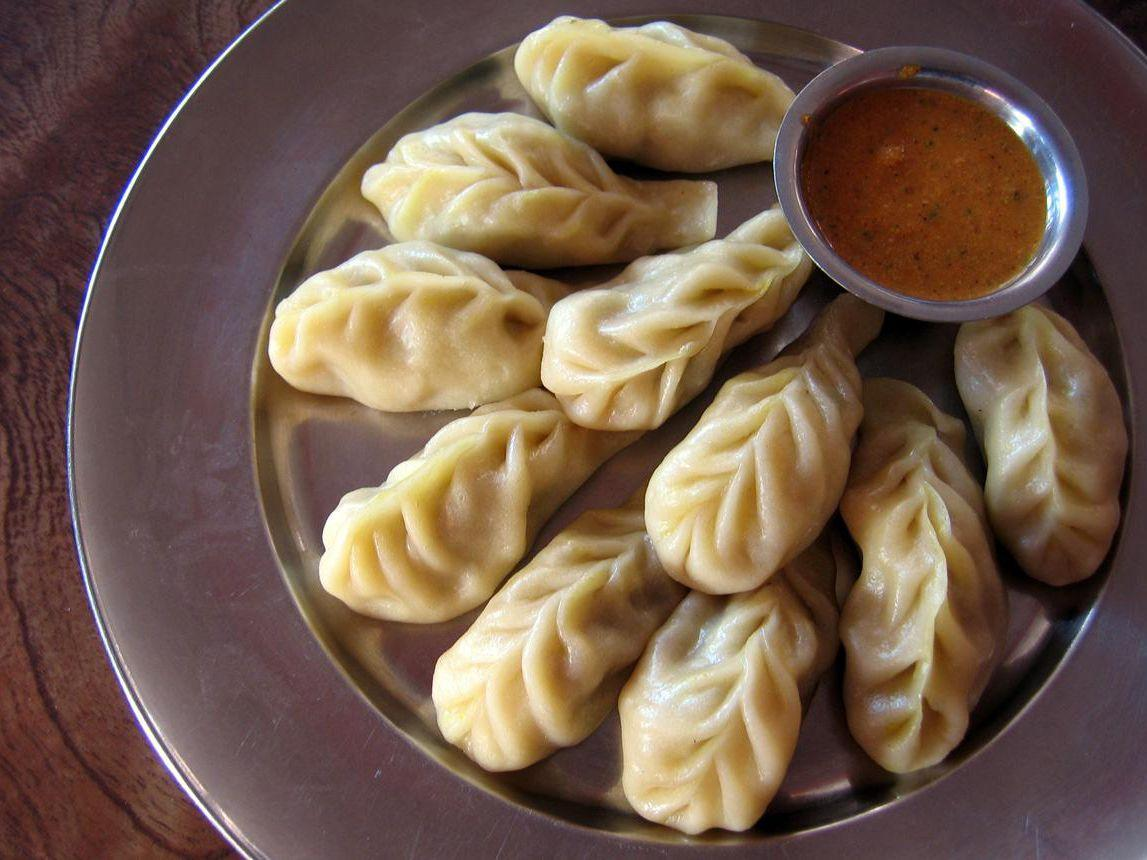momos: (323, 390, 641, 623), (645, 293, 885, 594), (432, 491, 686, 773), (840, 379, 1008, 773), (542, 208, 813, 431), (363, 112, 717, 269), (618, 578, 818, 833), (269, 242, 569, 411), (954, 305, 1127, 586), (515, 16, 795, 171)
